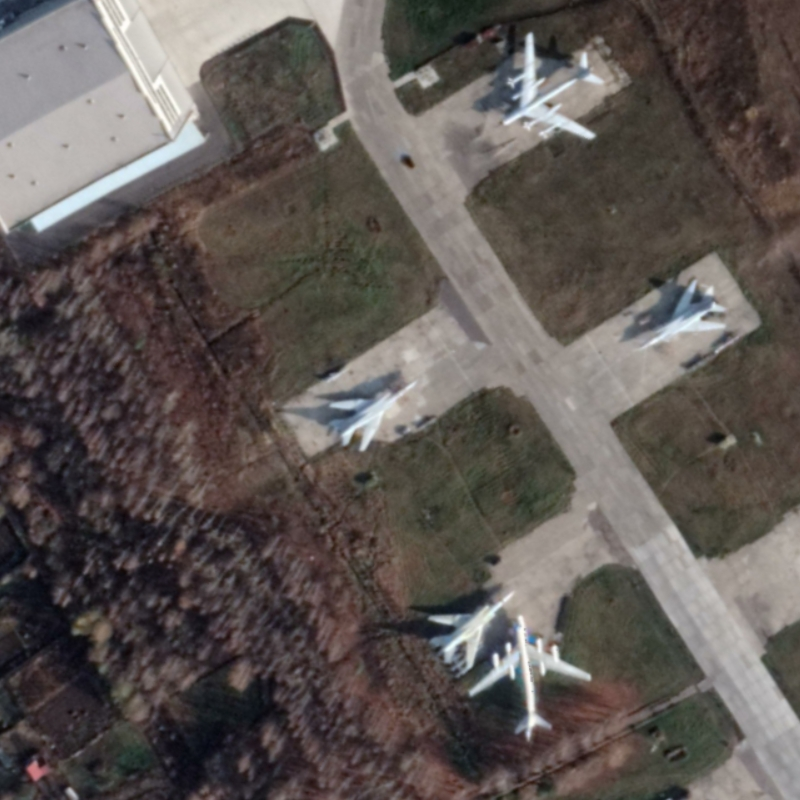A12: (425, 588, 517, 672), (326, 378, 420, 453), (638, 276, 728, 351)
A17: (465, 612, 595, 743), (496, 29, 608, 143)
